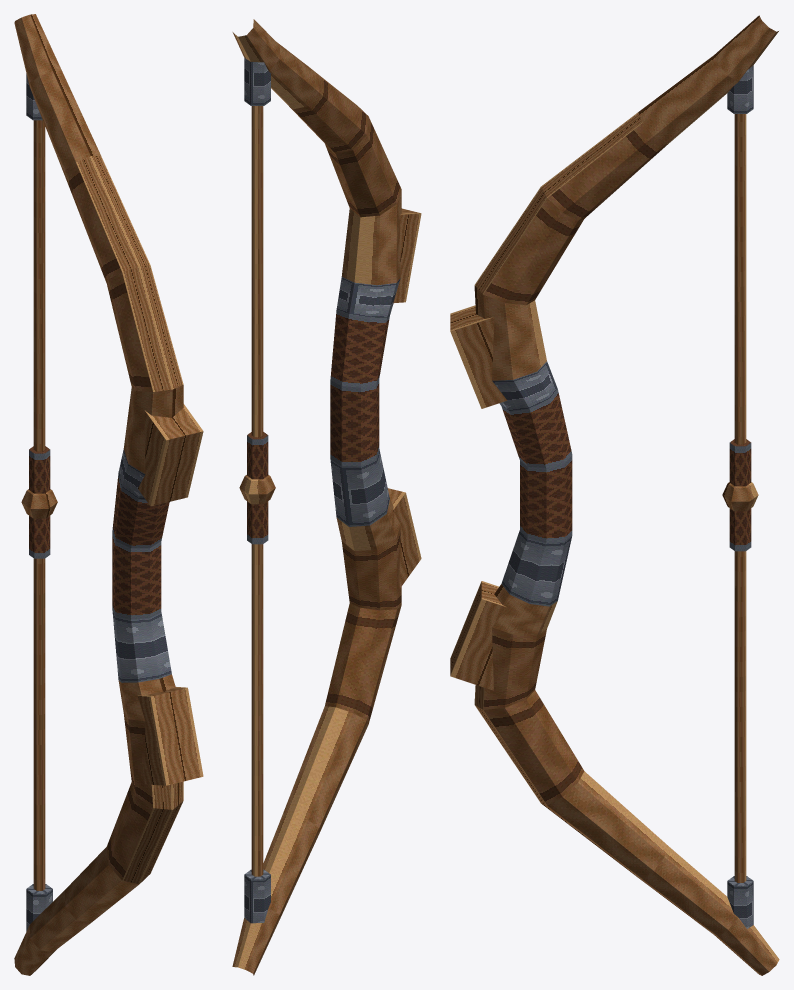
Rendered from arco_de_madeira.glb.
3 renders of one model, left to right at view 1: azimuth 30°, elevation 25°; view 2: azimuth 150°, elevation 25°; view 3: azimuth 270°, elevation 25°, orthographic.
Visible parts, largest first — view 1: arco_de_madeira; view 2: arco_de_madeira; view 3: arco_de_madeira.
Boxes of the visible parts, left/top/right/bottom form: arco_de_madeira: left=14, top=14, right=203, bottom=975; arco_de_madeira: left=232, top=19, right=421, bottom=975; arco_de_madeira: left=450, top=15, right=779, bottom=975.
Size of the model in its own units: 0.07 by 1.28 by 0.3981.
1 material, 1 textured.
